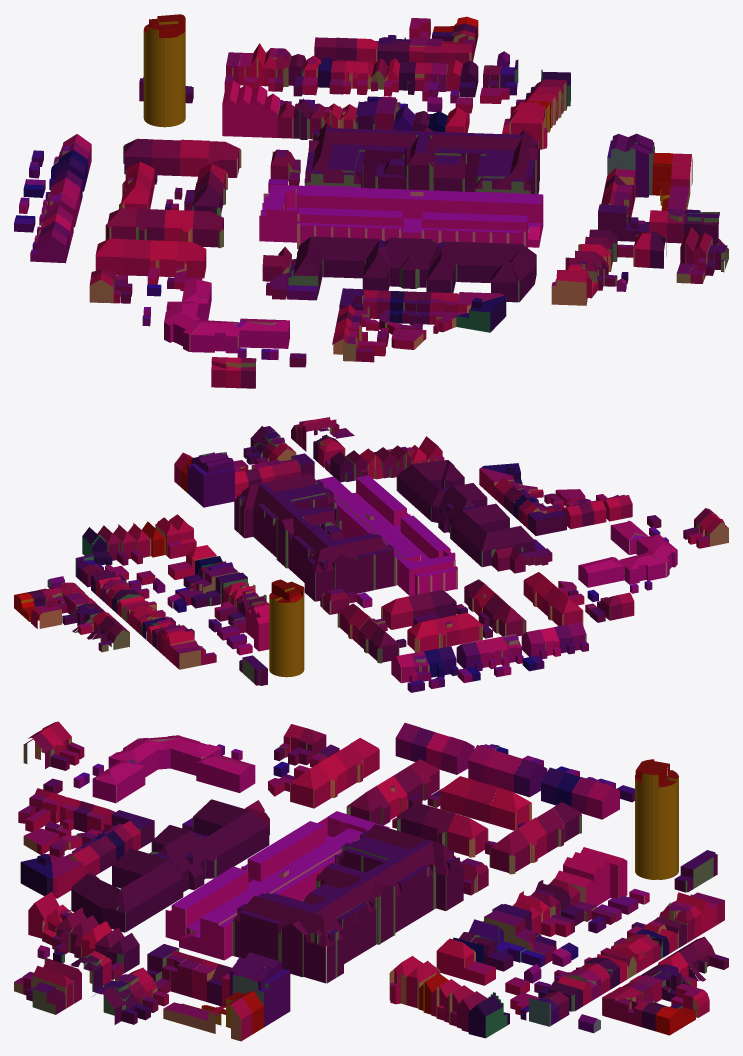
The model's file is buildings_5_7.glb.
3 renders of one model, top to bottom at view 1: azimuth 30°, elevation 25°; view 2: azimuth 150°, elevation 25°; view 3: azimuth 270°, elevation 25°, orthographic. The views are drawn at different scales.
Visible parts, largest first — view 1: buildings_5_7; view 2: buildings_5_7; view 3: buildings_5_7.
Boxes of the visible parts, bbox=[...] form: buildings_5_7: bbox=[14, 14, 728, 388]; buildings_5_7: bbox=[14, 417, 728, 692]; buildings_5_7: bbox=[14, 721, 728, 1041].
Size of the model in its own units: 211 by 34.69 by 214.
